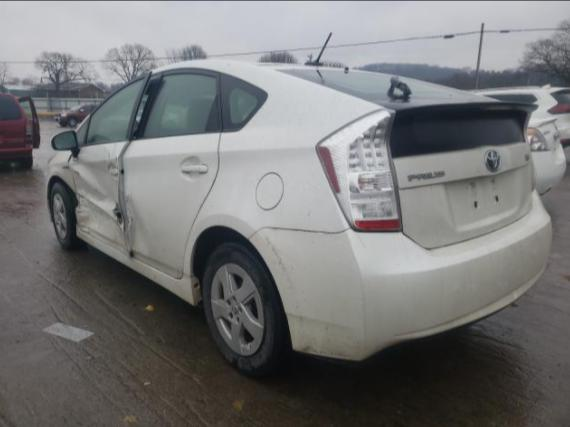Broken part: (70, 71, 166, 257)
Dent: (71, 138, 132, 259), (124, 192, 161, 271)
Missing part: (465, 176, 506, 209)
Paint chip: (266, 239, 301, 325)
